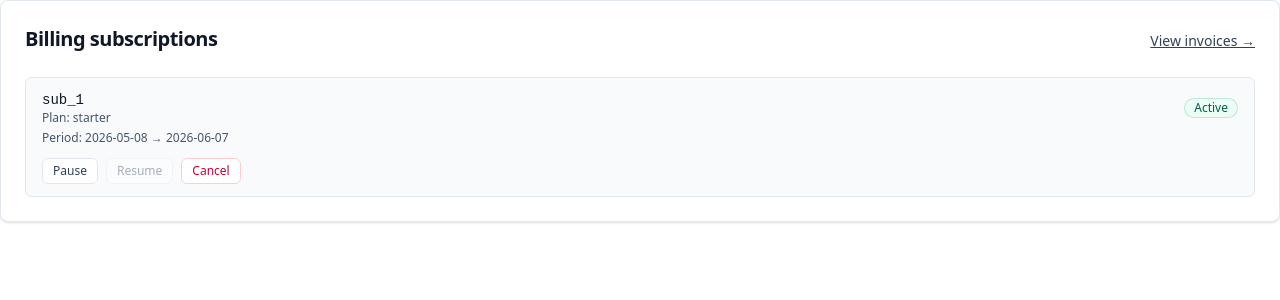
Scenario: BillingDashboard › surfaces api error
Click the button with test id "subscription-pause-sub_1" at (70, 171), box top-left (42, 158), bottom-right (98, 184)
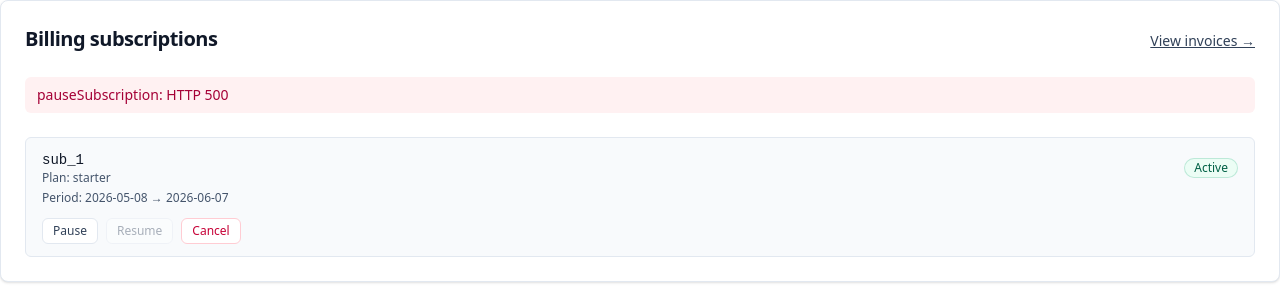
expect the text "pauseSubscription: HTTP 500" is shown: met, box top-left (25, 77), bottom-right (1255, 113)
